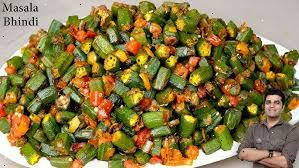bhindi: (30, 28, 236, 151)
